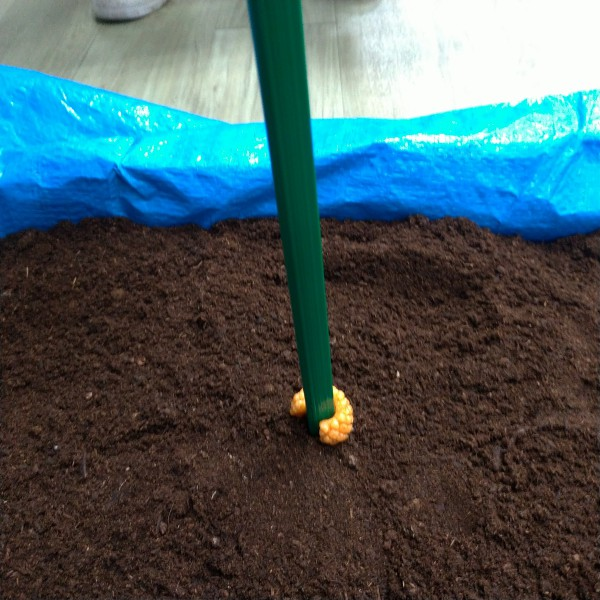eggs: (283, 382, 356, 445)
